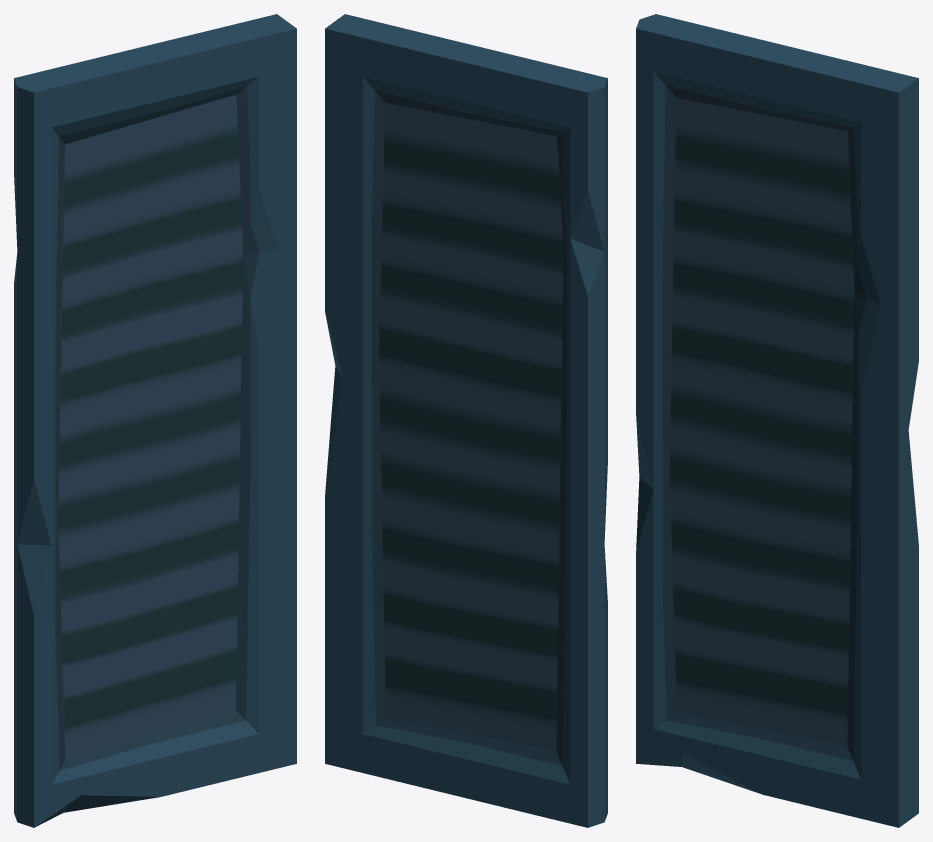
Rendered from SM_Bld_Village_Window_Shutter_R_01.fbx.
The picture shows the model from 3 angles, left to right: view 1: azimuth 30°, elevation 25°; view 2: azimuth 150°, elevation 25°; view 3: azimuth 330°, elevation 25°; orthographic projection.
Visible parts, largest first — view 1: SM_Bld_Village_Window_Shutter_R_01; view 2: SM_Bld_Village_Window_Shutter_R_01; view 3: SM_Bld_Village_Window_Shutter_R_01.
Part boxes in pixels (x1=…): SM_Bld_Village_Window_Shutter_R_01: x1=14, y1=14, x2=296, y2=827; SM_Bld_Village_Window_Shutter_R_01: x1=325, y1=14, x2=607, y2=827; SM_Bld_Village_Window_Shutter_R_01: x1=636, y1=14, x2=918, y2=827.
Bounding box in the file's own units: 68.88 × 180 × 8.79.
